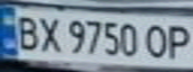0: (118, 20, 142, 58)
5: (100, 19, 124, 57)
7: (81, 17, 106, 55)
9: (63, 16, 87, 55)
B: (9, 11, 42, 52)
O: (142, 20, 172, 60)
P: (163, 21, 193, 61)
X: (36, 12, 63, 53)
